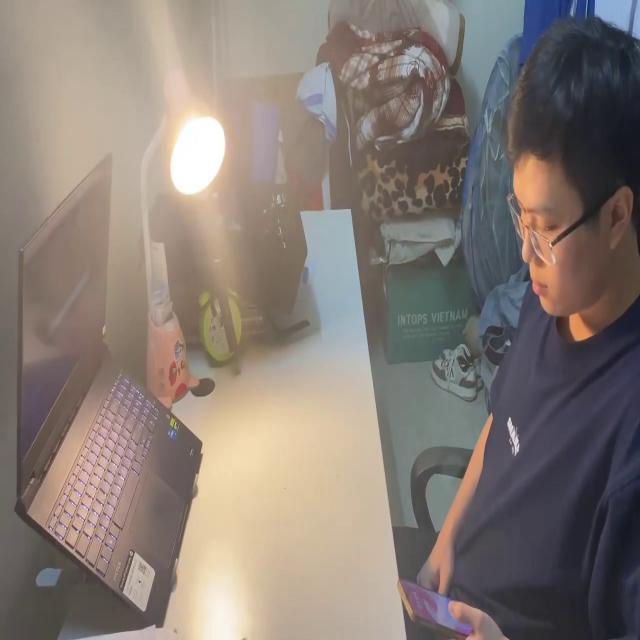laptop: (11, 145, 203, 620)
phone: (398, 566, 486, 640)
student: (400, 13, 640, 640)
